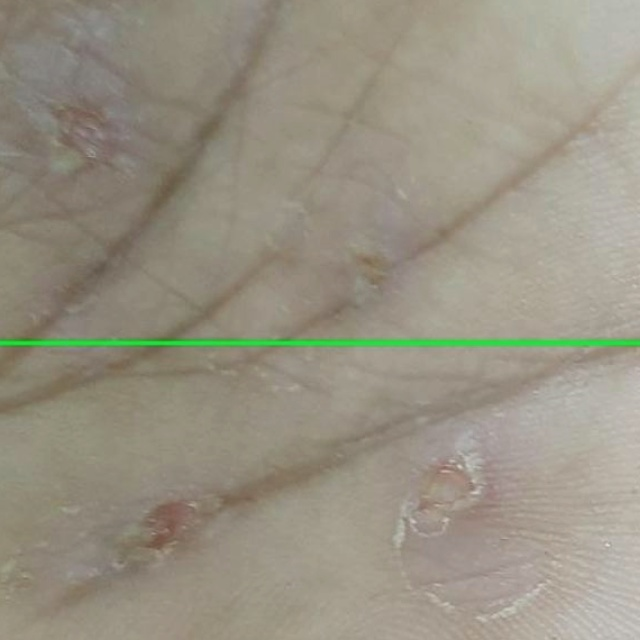Scabies: (0, 344, 639, 639)
